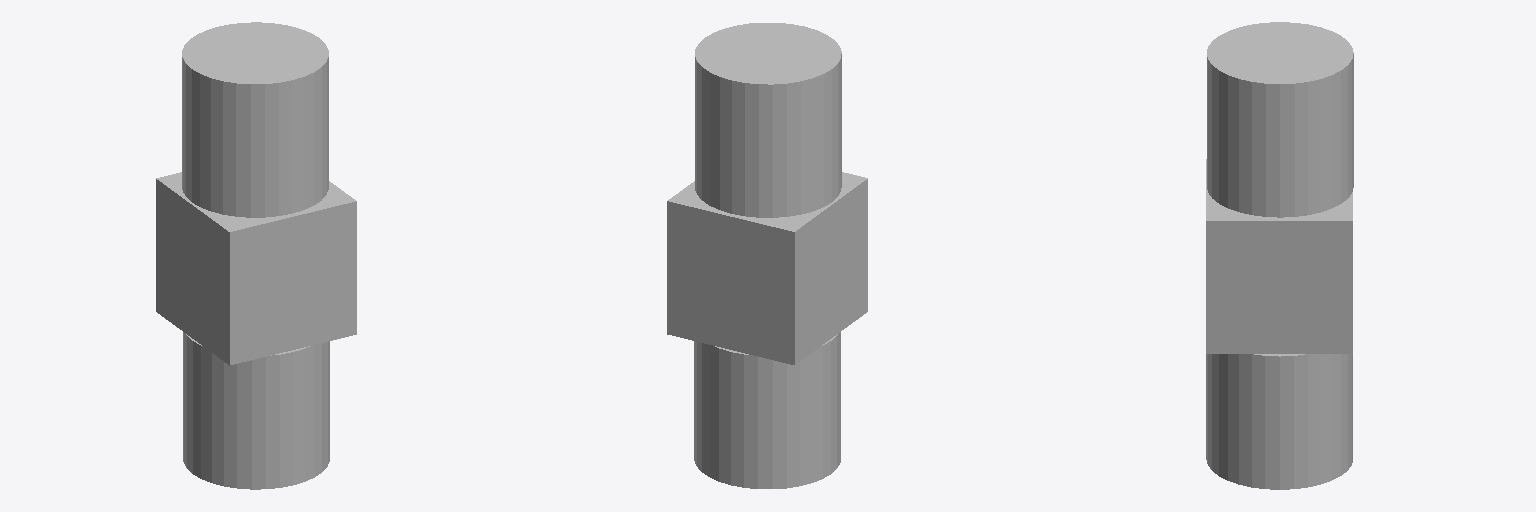
Rendered from triplemesh.obj.
3 renders of one model, left to right at view 1: azimuth 30°, elevation 25°; view 2: azimuth 150°, elevation 25°; view 3: azimuth 270°, elevation 25°, orthographic.
Visible parts, largest first — view 1: Cube_Cube.001, Cylinder.001_Cylinder.002, Cylinder_Cylinder.001; view 2: Cube_Cube.001, Cylinder.001_Cylinder.002, Cylinder_Cylinder.001; view 3: Cylinder.001_Cylinder.002, Cube_Cube.001, Cylinder_Cylinder.001.
Part boxes in pixels (bbox=[...]): Cube_Cube.001: bbox=[156, 172, 356, 365]; Cylinder.001_Cylinder.002: bbox=[182, 22, 328, 217]; Cylinder_Cylinder.001: bbox=[183, 332, 329, 489]; Cube_Cube.001: bbox=[667, 172, 867, 364]; Cylinder.001_Cylinder.002: bbox=[695, 23, 841, 217]; Cylinder_Cylinder.001: bbox=[694, 332, 840, 488]; Cylinder.001_Cylinder.002: bbox=[1207, 22, 1353, 217]; Cube_Cube.001: bbox=[1206, 159, 1352, 353]; Cylinder_Cylinder.001: bbox=[1206, 354, 1352, 489].
Bounding box in the file's own units: 2.01 × 6.08 × 2.01.